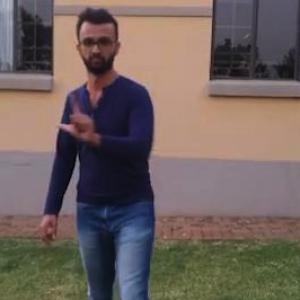land_hand: (53, 88, 106, 150)
